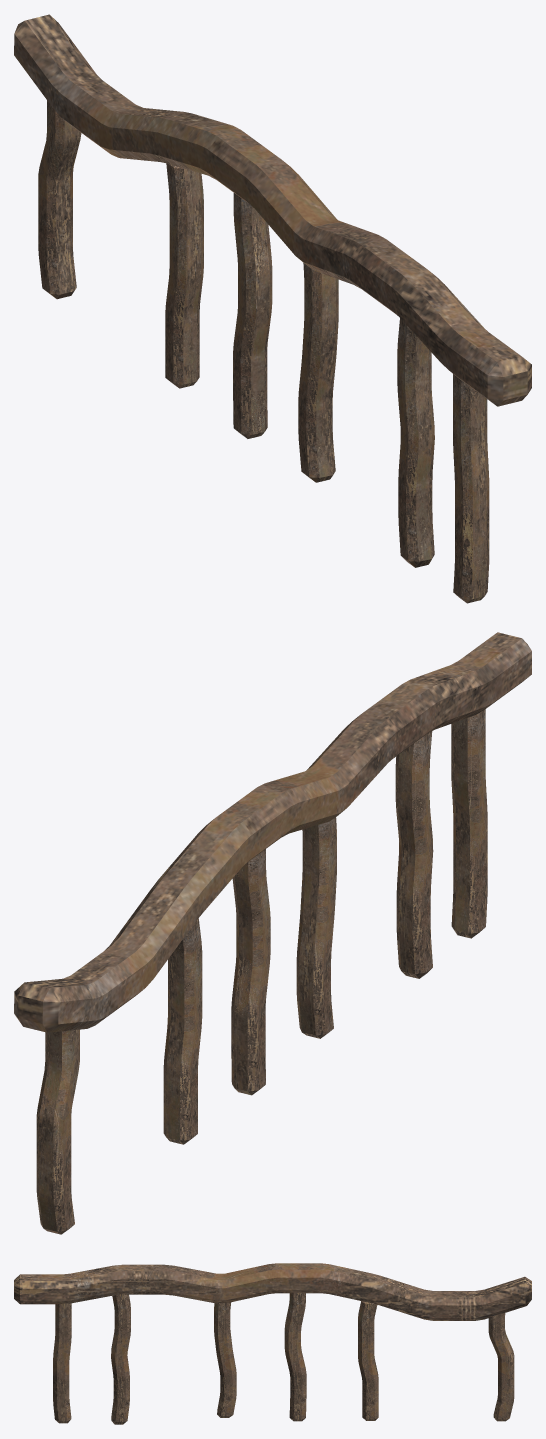
Rendered from fence.fbx.
3 views of the same model, one above another, from view 1: azimuth 30°, elevation 25°; view 2: azimuth 150°, elevation 25°; view 3: azimuth 270°, elevation 25° (orthographic). The views are drawn at different scales.
Parts seen in each view (by area): view 1: Fence_model__2; view 2: Fence_model__2; view 3: Fence_model__2.
Boxes of the visible parts, x1,y1,x2,y2 form: Fence_model__2: (14,14,531,603); Fence_model__2: (14,632,531,1234); Fence_model__2: (14,1263,531,1424).
Size of the model in its own units: 0.1147 by 0.7241 by 2.17.
